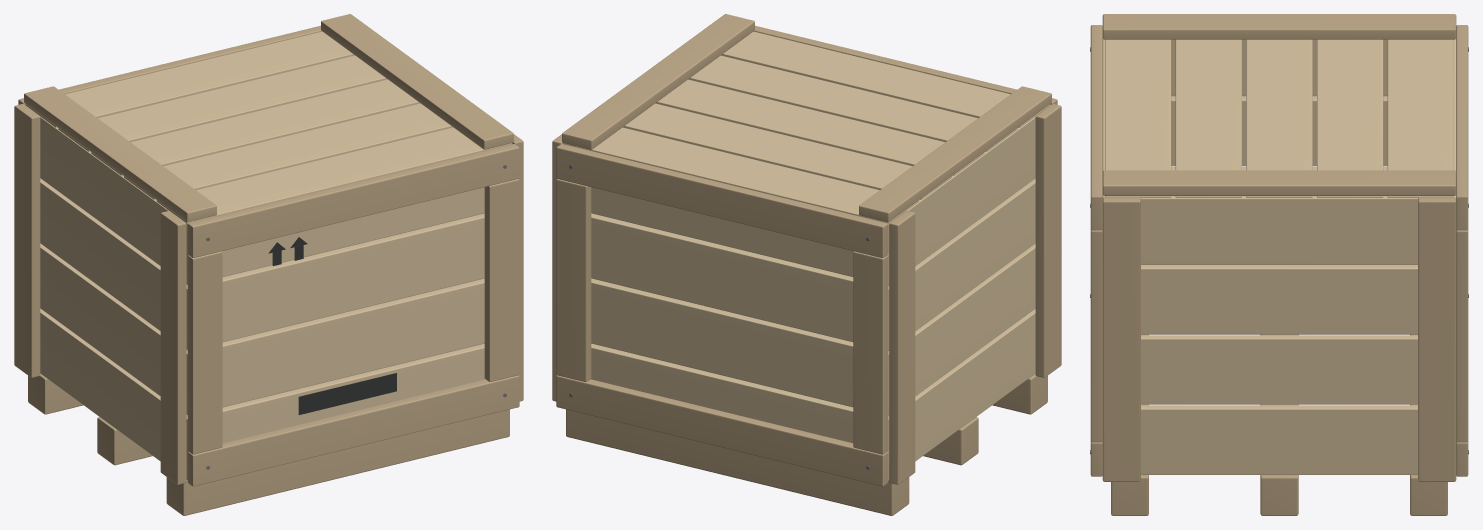
The model's file is industrial.yard.crate_wood.glb.
The picture shows the model from 3 angles, left to right: view 1: azimuth 30°, elevation 25°; view 2: azimuth 150°, elevation 25°; view 3: azimuth 270°, elevation 25°; orthographic projection. The views are drawn at different scales.
Parts seen in each view (by area): view 1: main__timber_dca, main__timber_ca8, main__paint_333; view 2: main__timber_dca, main__timber_ca8; view 3: main__timber_dca, main__timber_ca8.
Part boxes in pixels (x1,y1,x2,y2): main__timber_dca: (25,31,512,479); main__timber_ca8: (14,14,523,515); main__paint_333: (268,237,396,414); main__timber_dca: (563,31,1050,479); main__timber_ca8: (552,14,1061,515); main__timber_dca: (1102,38,1456,474); main__timber_ca8: (1090,14,1468,515).
Size of the model in its own units: 0.794 by 0.672 by 0.697.
